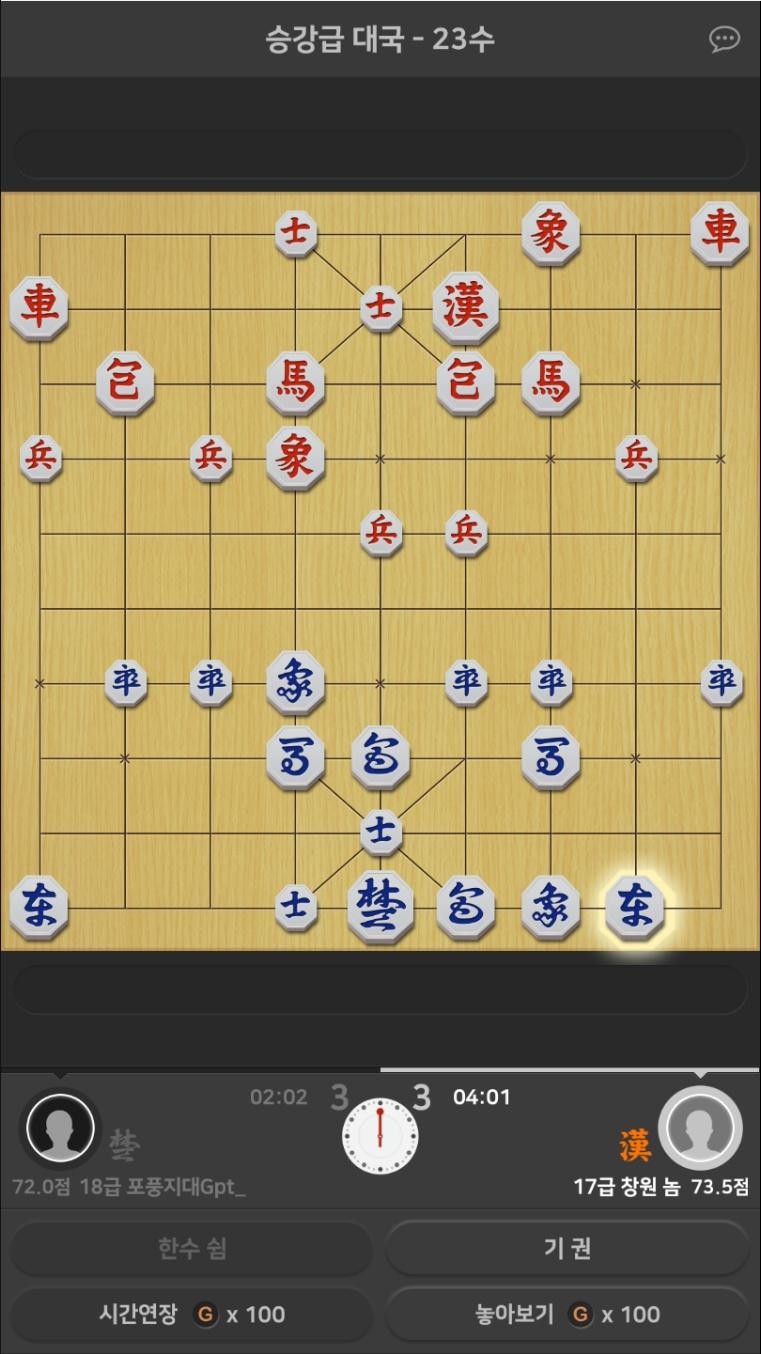cha_green: (605, 875, 667, 940), (7, 876, 67, 935)
cha_red: (692, 205, 750, 264), (12, 276, 65, 340)
jol_green: (443, 661, 492, 707), (699, 660, 742, 705), (103, 661, 148, 703), (531, 661, 573, 705), (191, 661, 231, 704)
jol_red: (620, 435, 660, 484), (362, 508, 401, 557), (448, 509, 488, 556), (191, 436, 232, 481), (21, 435, 62, 478)
ma_green: (522, 724, 581, 788), (267, 725, 324, 788)
ma_red: (268, 352, 324, 413), (523, 352, 579, 410)
po_green: (354, 722, 410, 786), (438, 879, 494, 933)
po_red: (99, 353, 153, 412), (436, 356, 492, 410)
sa_green: (273, 884, 317, 930), (360, 812, 401, 851)
sa_red: (276, 210, 316, 257), (362, 286, 402, 333)
sang_green: (520, 875, 581, 934), (269, 652, 324, 715)
sang_red: (521, 202, 581, 262), (267, 425, 321, 487)
wang_green: (346, 869, 414, 936)
wang_red: (433, 274, 499, 340)
